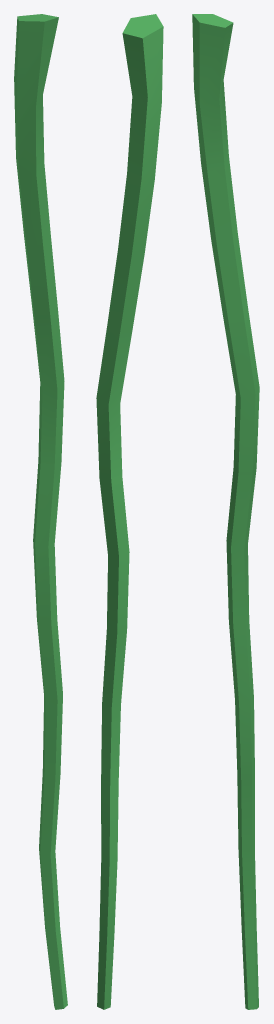
Rendered from roots_solo_B_B.fbx.
3 renders of one model, left to right at view 1: azimuth 30°, elevation 25°; view 2: azimuth 150°, elevation 25°; view 3: azimuth 330°, elevation 25°, orthographic. The views are drawn at different scales.
Visible parts, largest first — view 1: roots_solo_B_B; view 2: roots_solo_B_B; view 3: roots_solo_B_B.
Boxes of the visible parts, x1=… form: roots_solo_B_B: x1=14, y1=14, x2=67, y2=1009; roots_solo_B_B: x1=96, y1=14, x2=163, y2=1009; roots_solo_B_B: x1=192, y1=14, x2=259, y2=1009.
Size of the model in its own units: 15.8 by 265 by 12.7.
